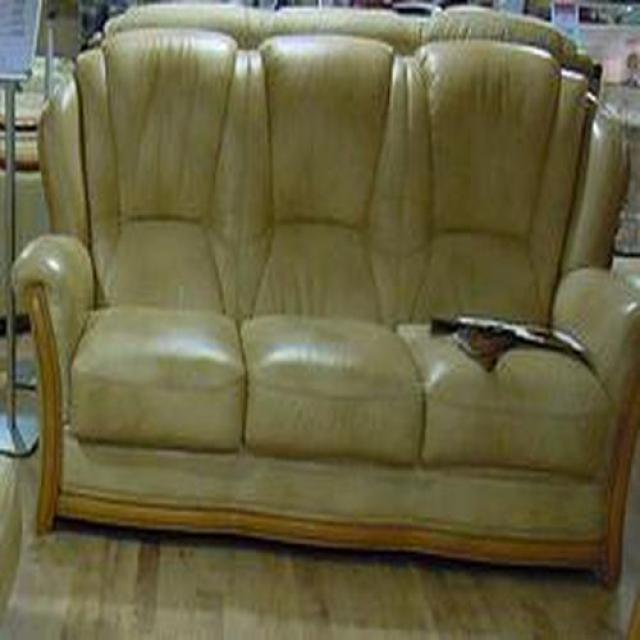sofa: (14, 6, 640, 591)
